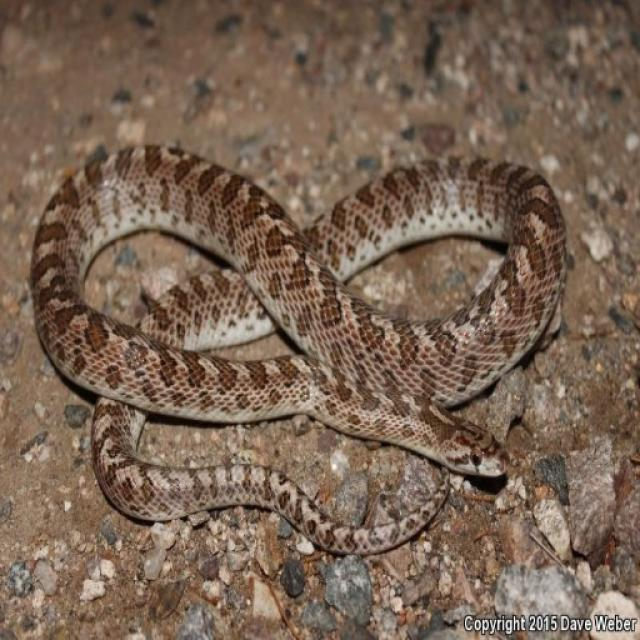snake: (23, 120, 593, 558)
